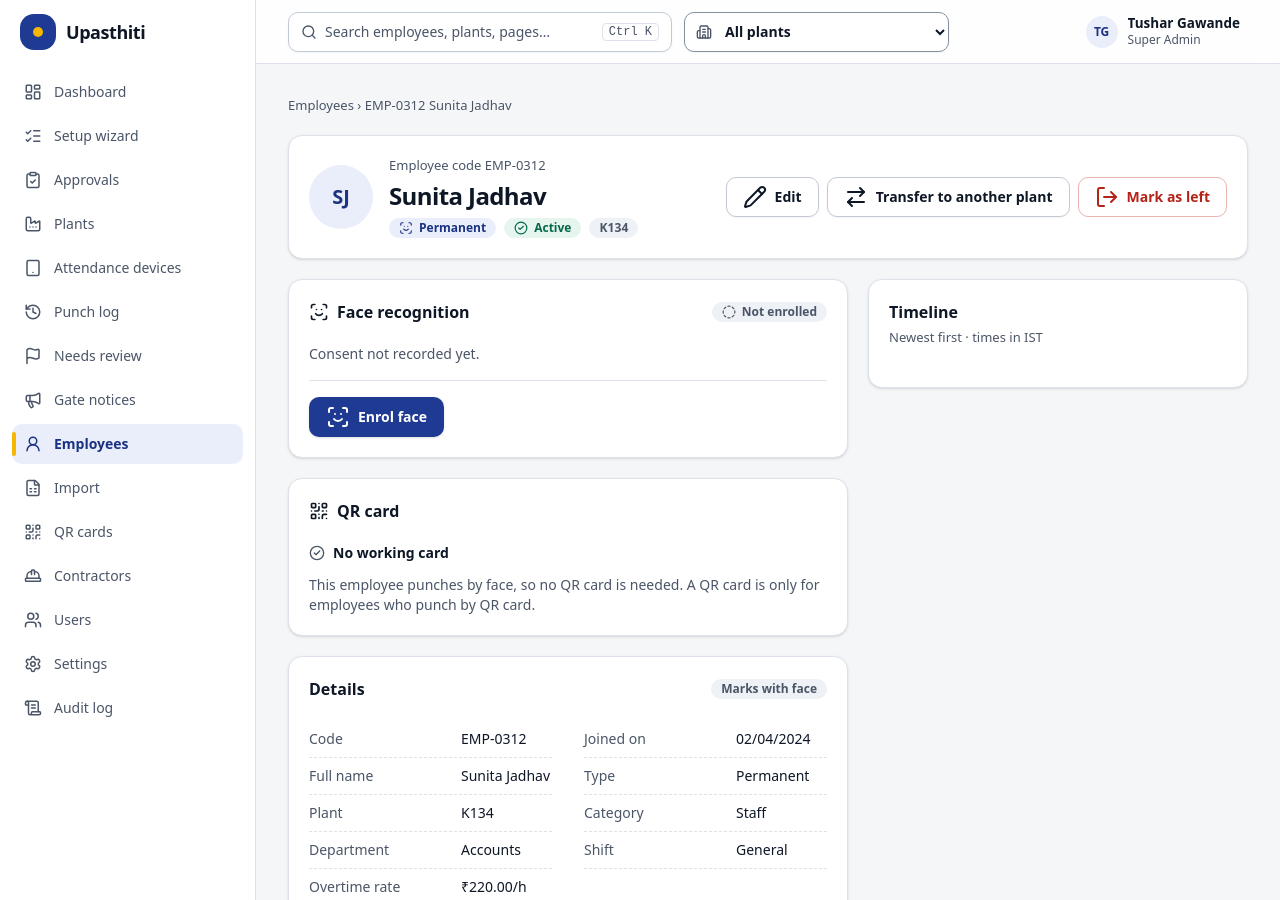
Test: consent dialog › tells the Super Admin to fill in Settings when the privacy contact is missing
The width and height of the screenshot is (1280, 900).
Click the button "Enrol face".
click(376, 417)  # box [309,397,444,437]
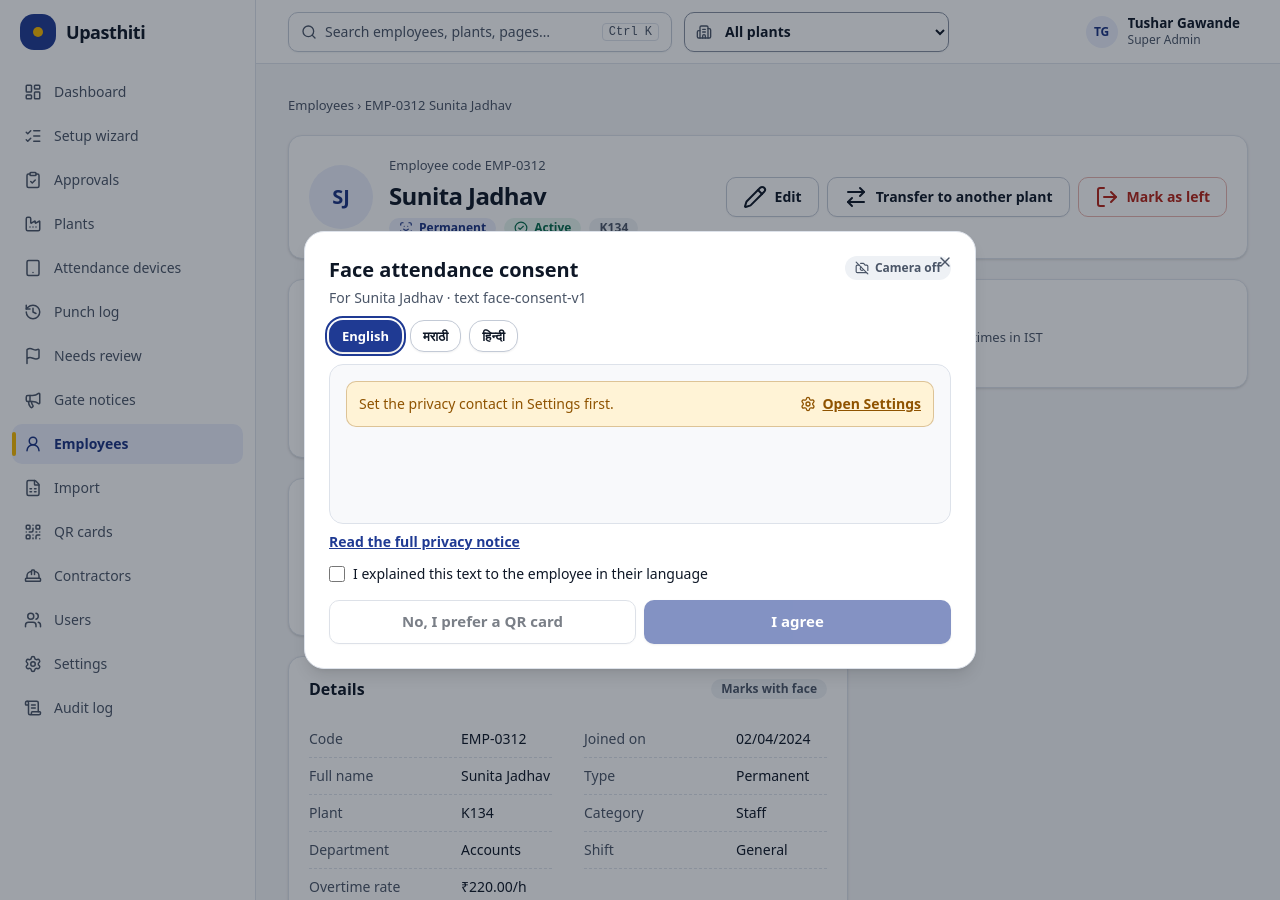
Now the text "Set the privacy contact in Settings first." is shown, box [359,394,614,414]
Now the link "Open Settings" is shown, box [800,394,921,414]
Now the button "I agree" is disabled, box [644,600,951,644]
